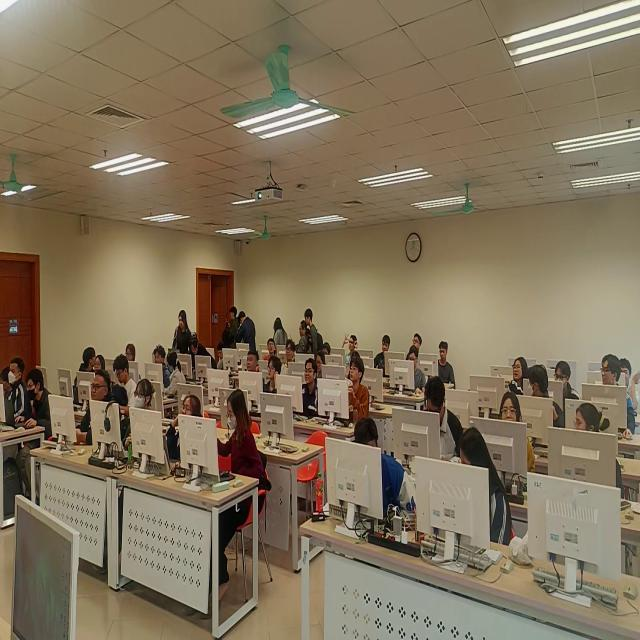raise_head: (63, 368, 114, 462), (492, 392, 538, 486), (159, 391, 205, 481), (126, 378, 155, 465), (336, 359, 369, 426), (293, 362, 324, 420), (423, 342, 456, 388), (261, 353, 282, 407), (149, 346, 168, 391), (373, 336, 391, 382), (243, 349, 263, 387), (341, 327, 358, 364), (510, 357, 528, 390), (284, 338, 299, 377), (123, 344, 142, 372), (91, 355, 109, 378), (313, 352, 326, 380), (265, 336, 277, 364), (409, 333, 422, 352)
stand: (170, 305, 195, 359), (221, 303, 239, 353), (239, 309, 256, 359), (305, 303, 320, 359)
using_computer: (9, 370, 57, 463), (416, 385, 465, 463), (1, 358, 28, 428), (396, 350, 428, 399), (549, 363, 577, 413)
